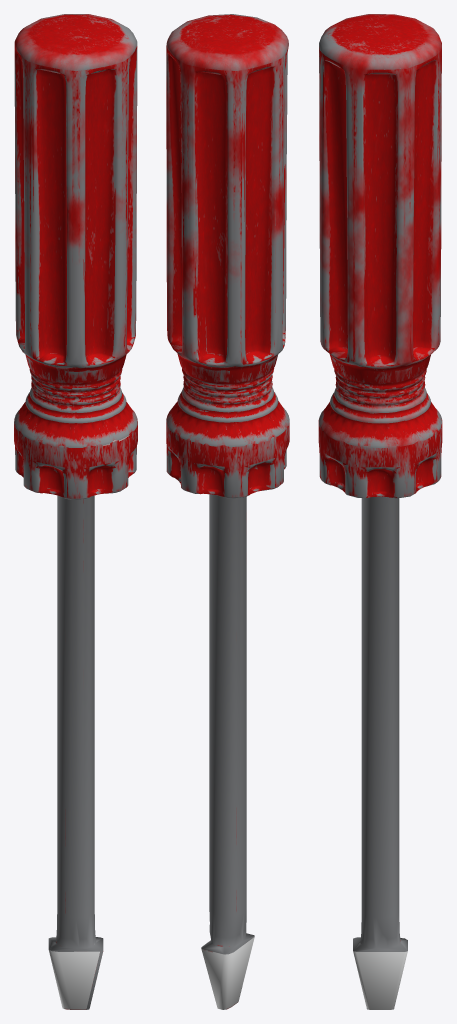
The model's file is free_screwdriver.glb.
The picture shows the model from 3 angles, left to right: view 1: azimuth 90°, elevation 25°; view 2: azimuth 150°, elevation 25°; view 3: azimuth 270°, elevation 25°; orthographic projection.
Parts seen in each view (by area): view 1: Cylinder; view 2: Cylinder; view 3: Cylinder.
Boxes of the visible parts, left/top/right/bottom form: Cylinder: left=14, top=14, right=137, bottom=1009; Cylinder: left=166, top=14, right=289, bottom=1009; Cylinder: left=318, top=14, right=442, bottom=1009.
Bounding box in the file's own units: 194 × 1682 × 194.
1 material, 1 textured.
